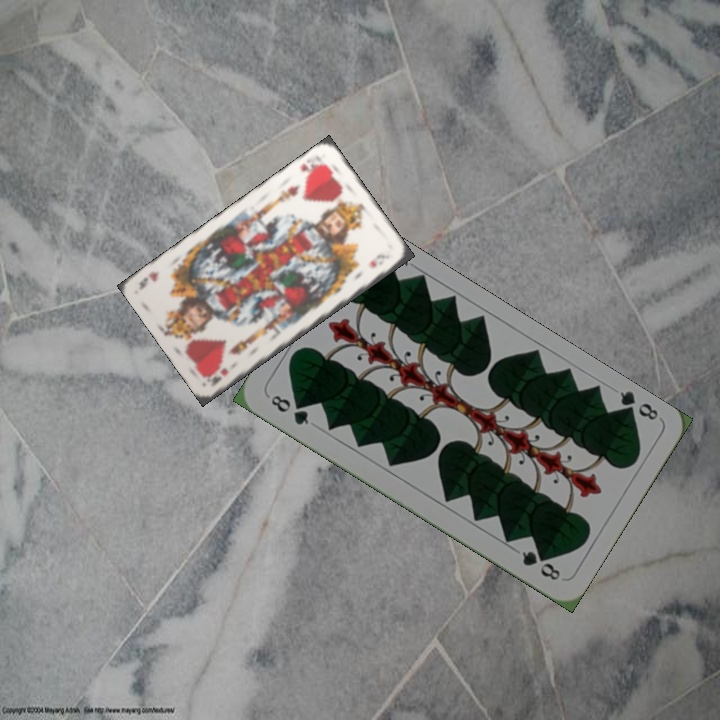G8: (614, 386, 661, 423), (266, 391, 312, 428)
HK: (296, 159, 327, 181), (206, 363, 231, 389)
